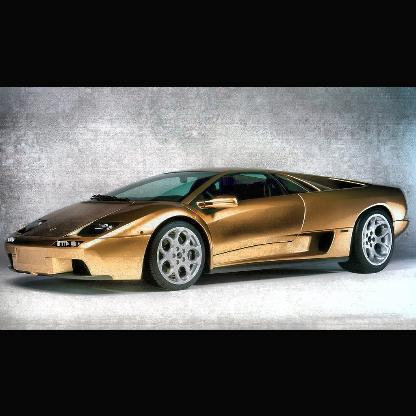Lamborghini Diablo Coupe 2001: (5, 167, 410, 292)
